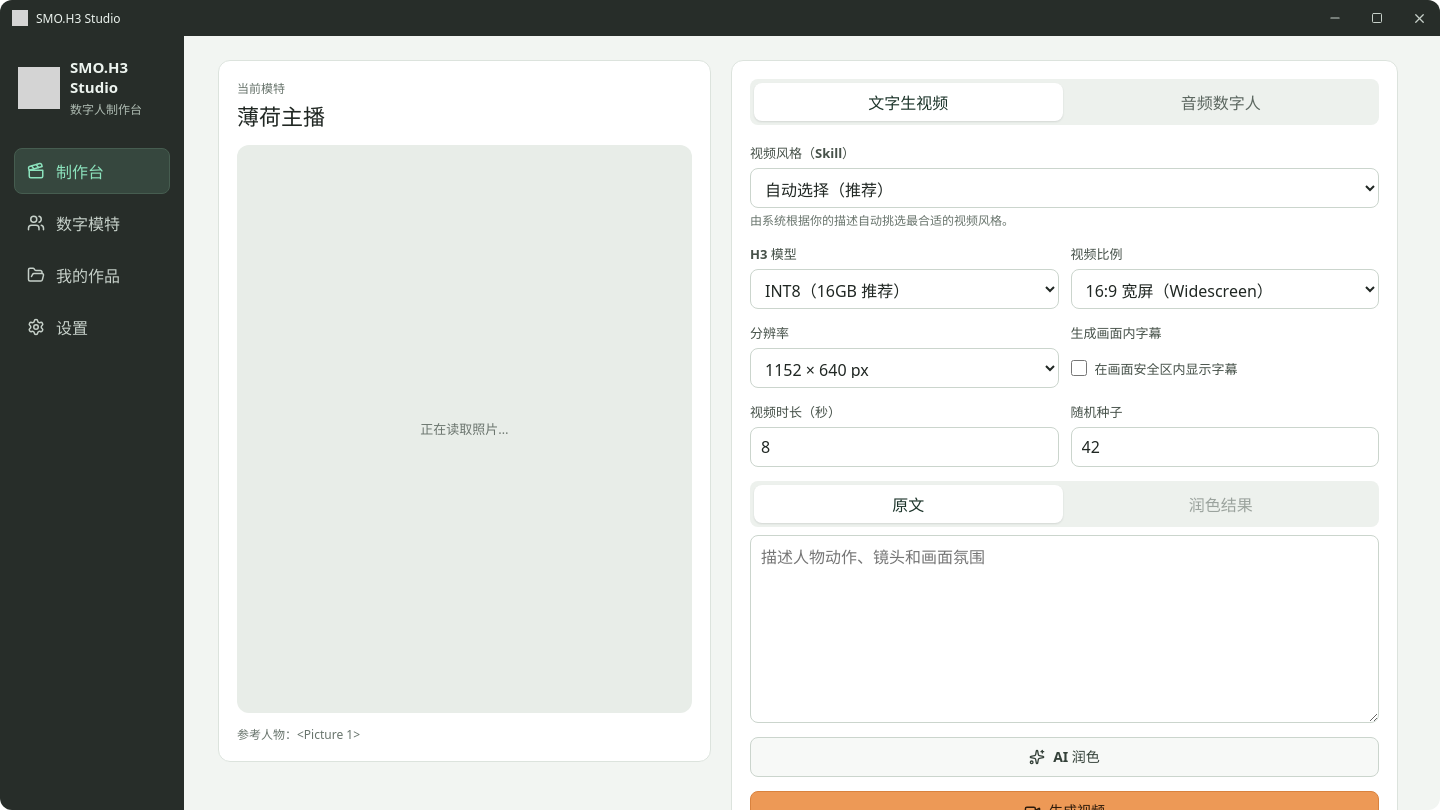
Test: SMO.H3 Studio navigation and avatars › renames an avatar and refreshes the shared list
Check: the heading "薄荷主播" is shown, box [237,101,325,131]
Click the button "数字模特" at point(92, 223), box [14,200,170,246]
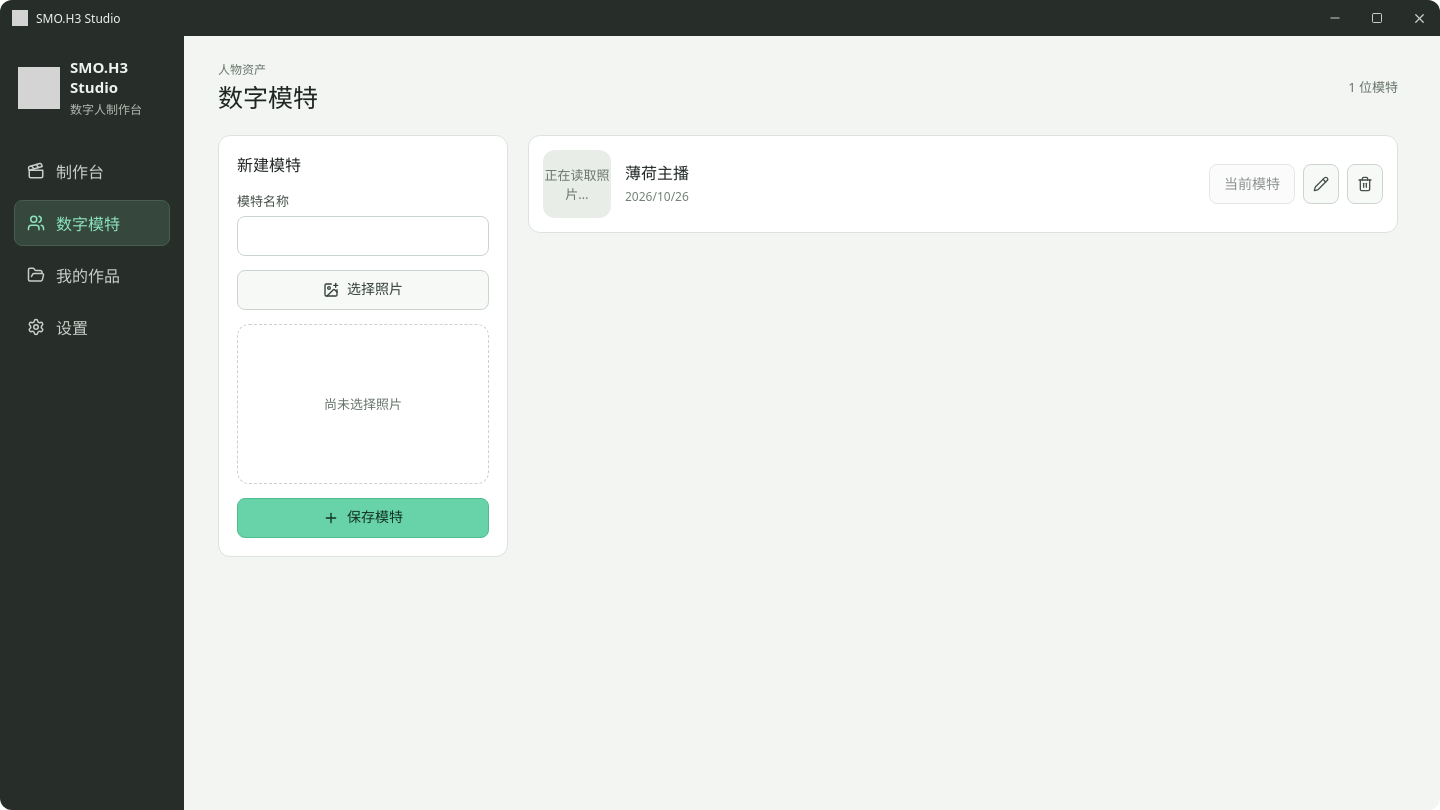
Click the button named "重命名 薄荷主播" at point(1321, 184), box [1303,164,1339,204]
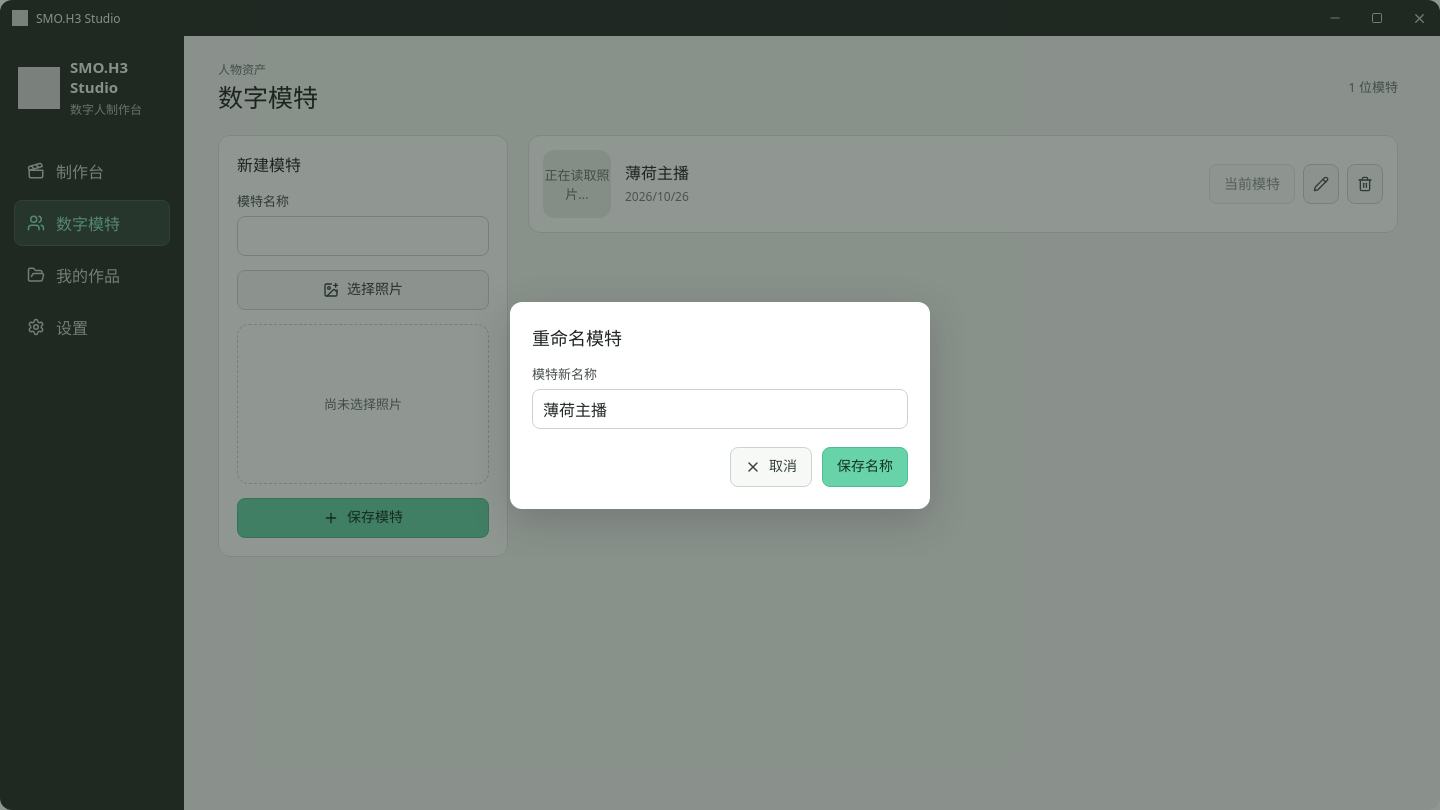
Replace the text in the field labelled "模特新名称" with "  新名称  " at point(720, 408), box [532,388,908,428]
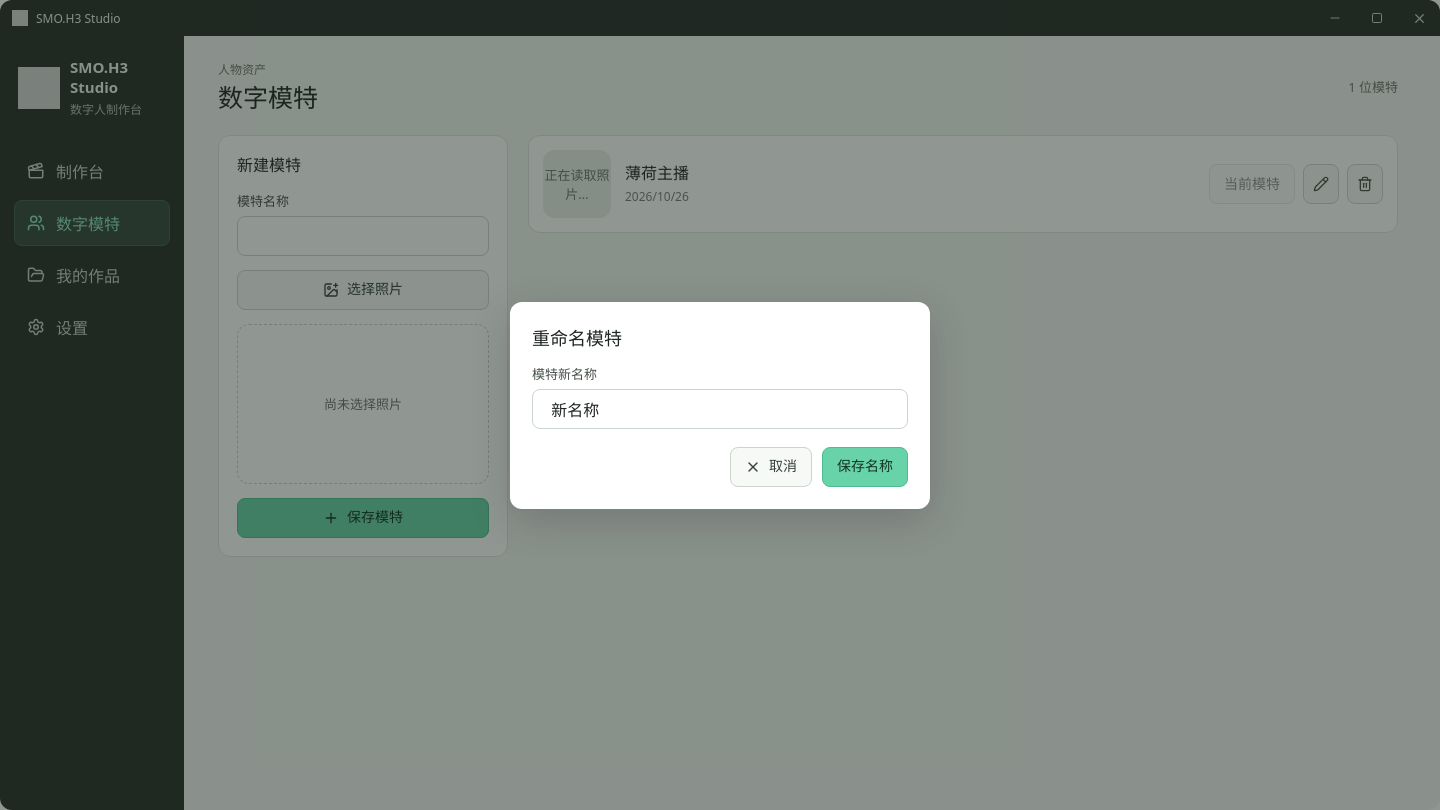
Click the button "保存名称" at point(865, 466), box [822,446,908,486]
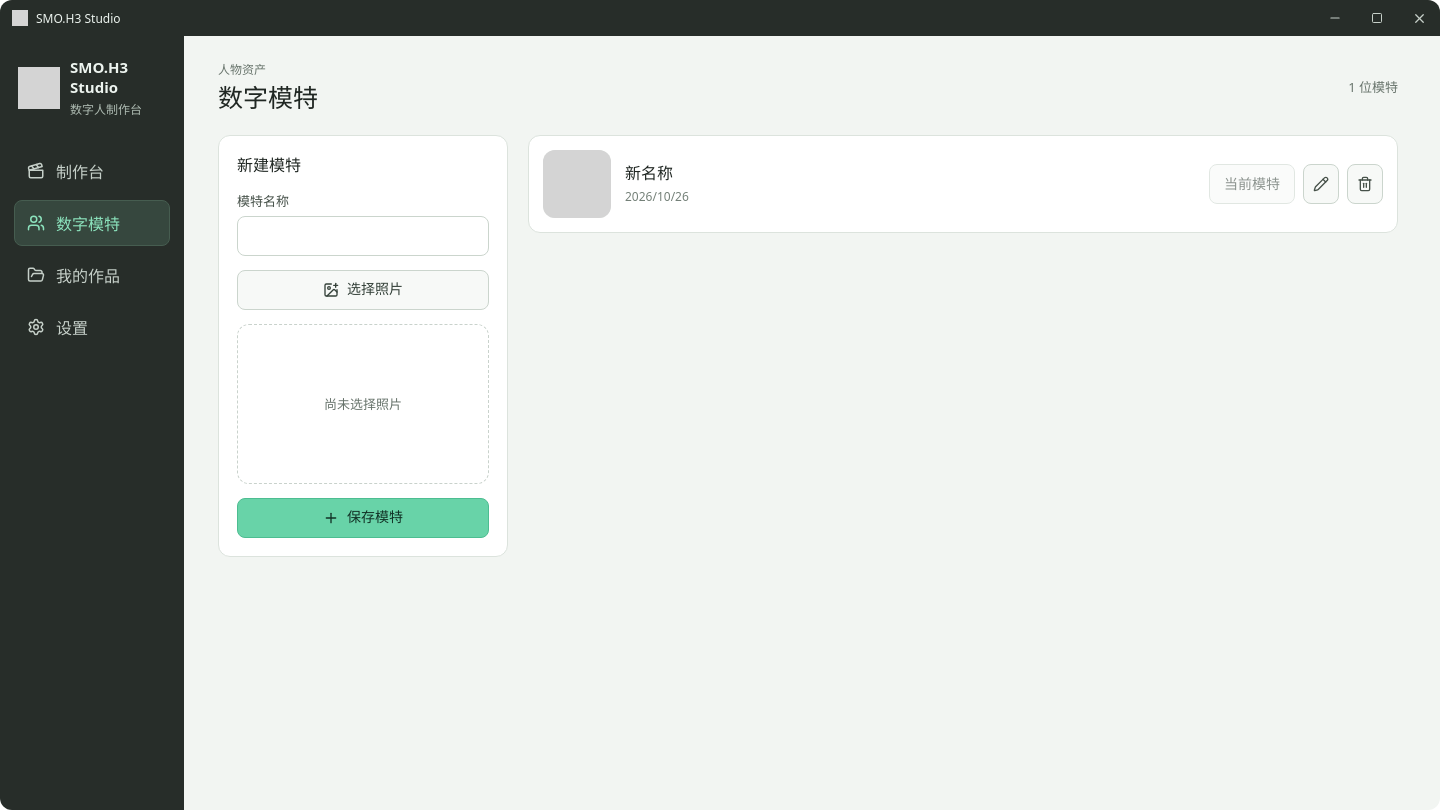
Check: the heading "新名称" is shown, box [625,162,673,184]
